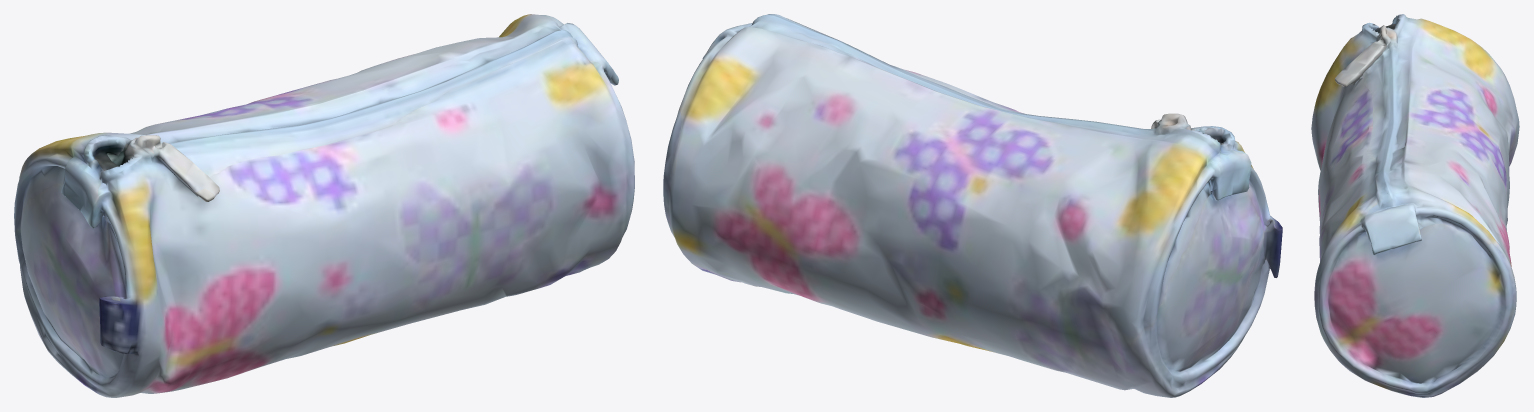
Rendered from Olive_Kids_Butterfly_Garden_Pencil_Case-high.glb.
3 views of the same model, side by side, from view 1: azimuth 30°, elevation 25°; view 2: azimuth 150°, elevation 25°; view 3: azimuth 270°, elevation 25° (orthographic). The views are drawn at different scales.
Parts seen in each view (by area): view 1: Olive_Kids_Butterfly_Garden_Pencil_Case; view 2: Olive_Kids_Butterfly_Garden_Pencil_Case; view 3: Olive_Kids_Butterfly_Garden_Pencil_Case.
Boxes of the visible parts, <box> form: Olive_Kids_Butterfly_Garden_Pencil_Case: <box>14,14,634,397</box>; Olive_Kids_Butterfly_Garden_Pencil_Case: <box>663,14,1282,397</box>; Olive_Kids_Butterfly_Garden_Pencil_Case: <box>1311,14,1519,397</box>.
Bounding box in the file's own units: 0.2092 × 0.0949 × 0.087.
1 material, 1 textured.
